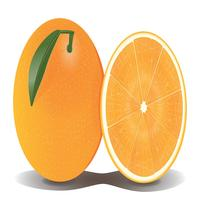orange: (11, 14, 189, 194)
